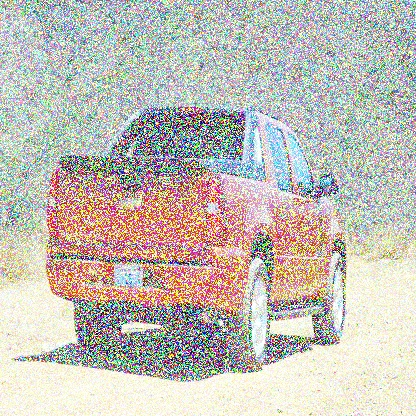Vehicle: (46, 105, 349, 374)
